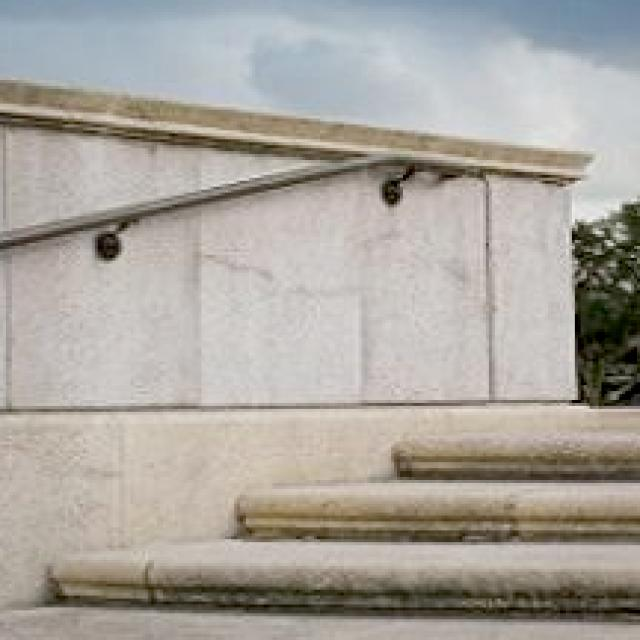upstair: (54, 348, 640, 623)
